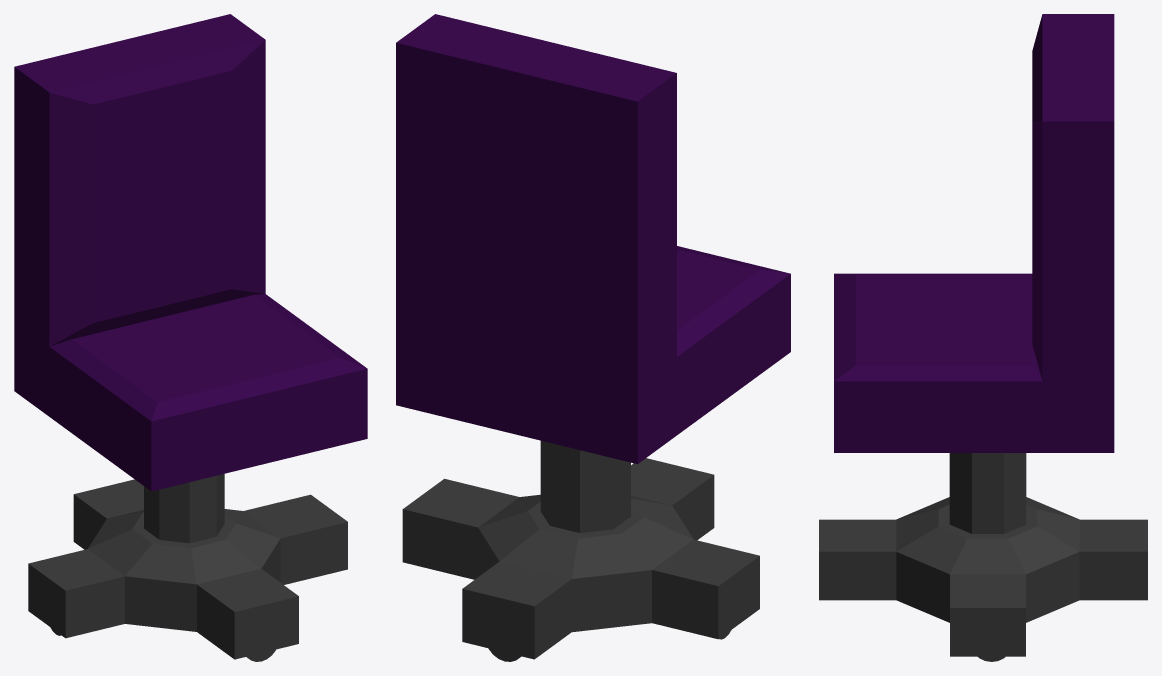
Rendered from Office Chair.fbx.
3 renders of one model, left to right at view 1: azimuth 30°, elevation 25°; view 2: azimuth 150°, elevation 25°; view 3: azimuth 270°, elevation 25°, orthographic. The views are drawn at different scales.
Parts seen in each view (by area): view 1: pCube1, pCylinder1; view 2: pCube1, pCylinder1; view 3: pCube1, pCylinder1.
Boxes of the visible parts, x1,y1,x2,y2 form: pCube1: (14,14,367,491); pCylinder1: (28,474,347,659); pCube1: (396,14,790,463); pCylinder1: (402,440,759,659); pCube1: (834,14,1114,452); pCylinder1: (819,453,1147,656).
Size of the model in its own units: 8.01 by 14.07 by 7.9.
